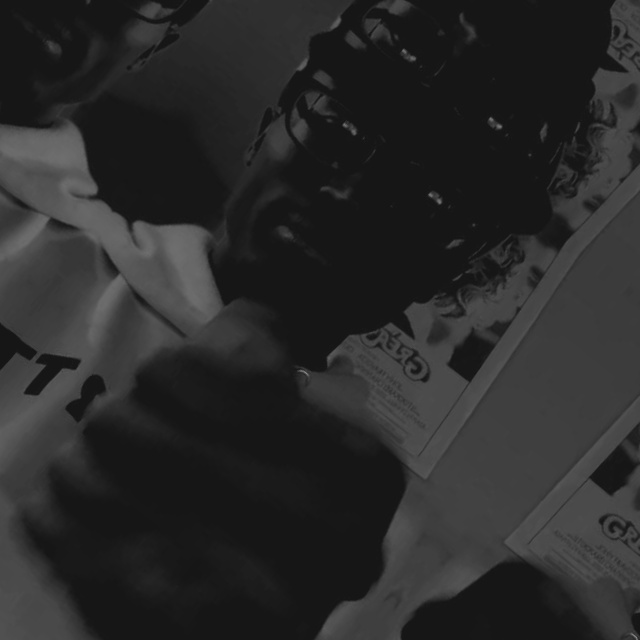Rock: (501, 0, 640, 109)
